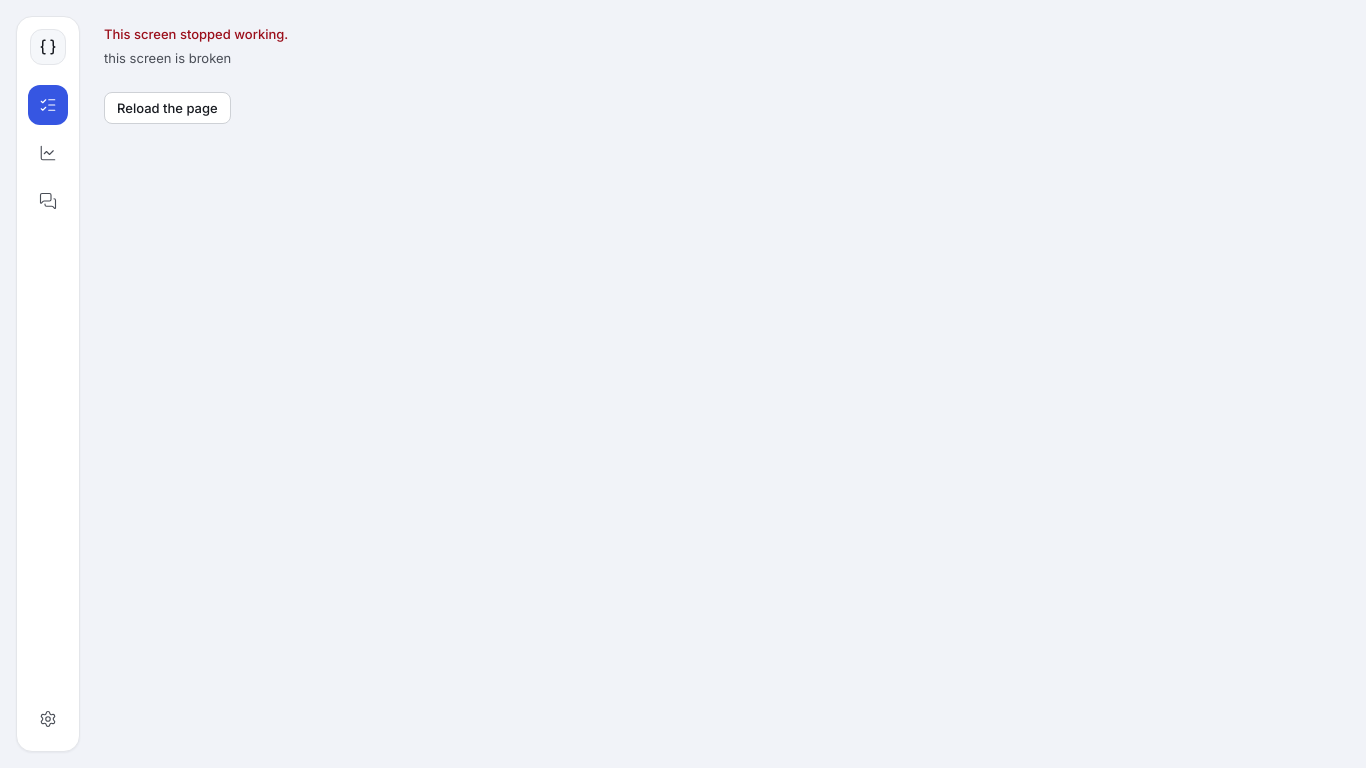
a screen that throws (P4-15) › does not follow the user to the next screen
Check: the text "This screen stopped working." is shown, box [104,26,288,42]
# The rail survives the error, and is the way out.
Click the link named "Progress" at (48,153), box [39,144,57,162]
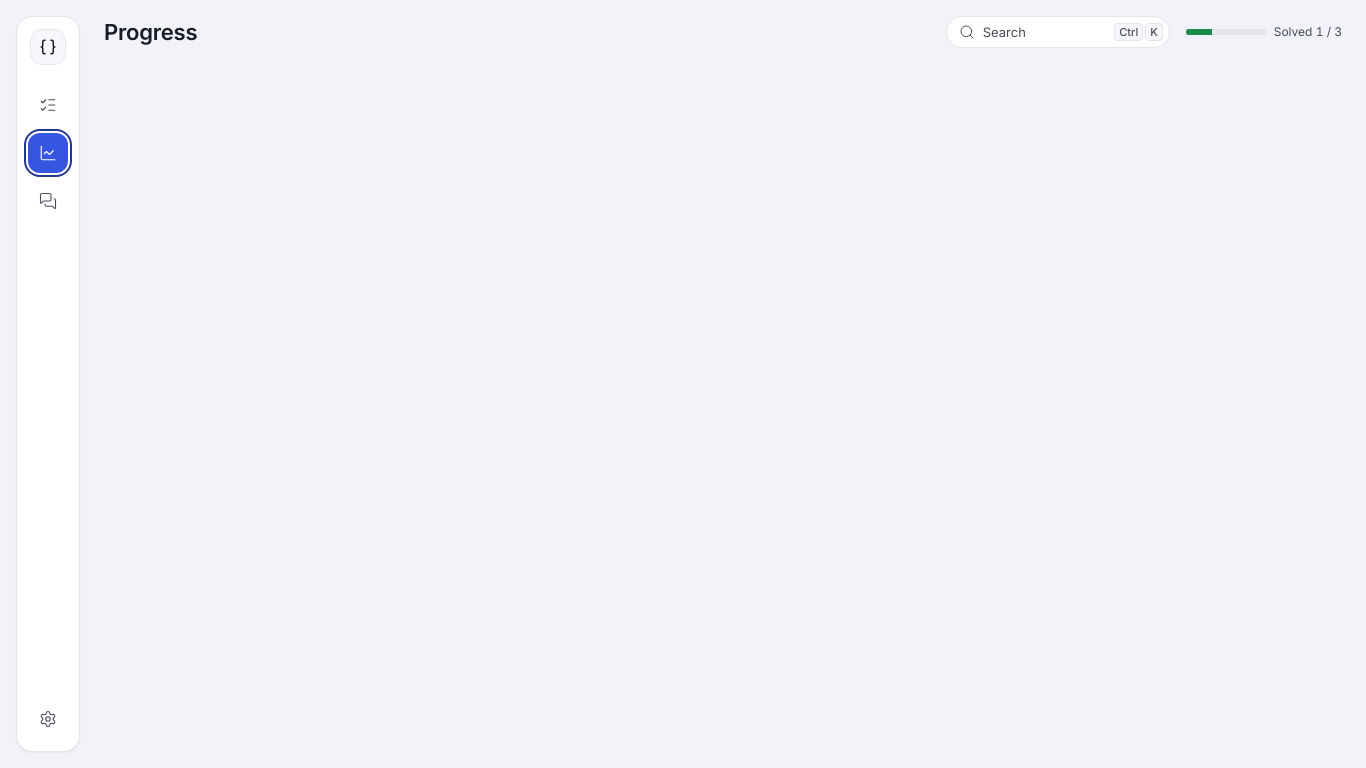
Check: the heading "Progress" is shown, box [104,17,197,47]
Check: the text "This screen stopped working." is gone
